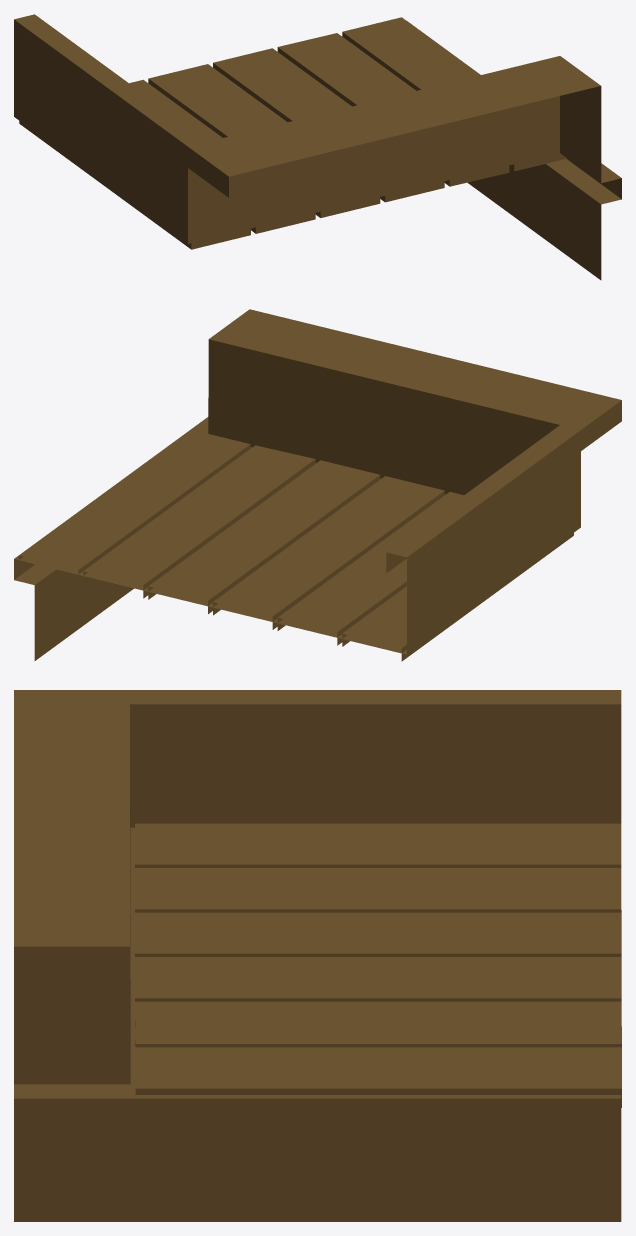
File: StairsEdge.fbx
3 views of the same model, one above another, from view 1: azimuth 30°, elevation 25°; view 2: azimuth 150°, elevation 25°; view 3: azimuth 270°, elevation 25° (orthographic). The views are drawn at different scales.
Visible parts, largest first — view 1: StairsSmallEdge.002; view 2: StairsSmallEdge.002; view 3: StairsSmallEdge.002.
Boxes of the visible parts, x1=… form: StairsSmallEdge.002: x1=14, y1=14, x2=621, y2=280; StairsSmallEdge.002: x1=14, y1=309, x2=621, y2=661; StairsSmallEdge.002: x1=14, y1=690, x2=621, y2=1221.
Bounding box in the file's own units: 106 × 50 × 100.
